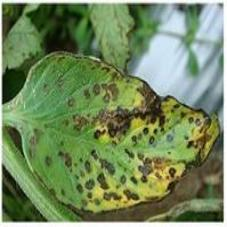Late Blight: (2, 46, 221, 216)
